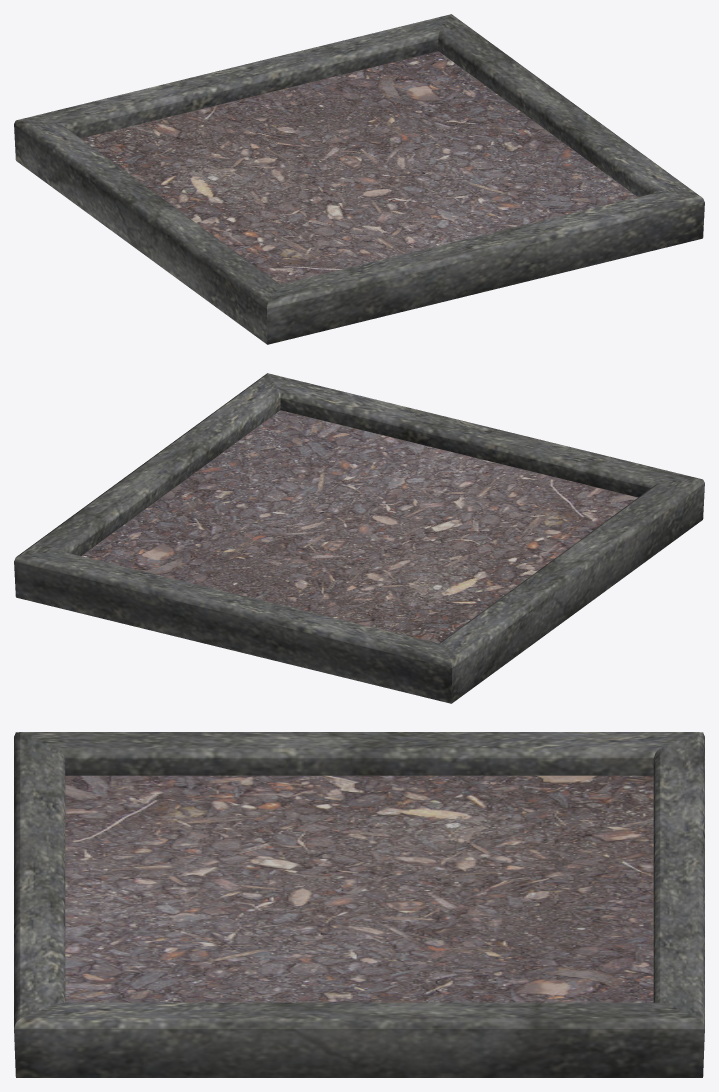
File: Treeground.fbx
The picture shows the model from 3 angles, top to bottom: view 1: azimuth 30°, elevation 25°; view 2: azimuth 150°, elevation 25°; view 3: azimuth 270°, elevation 25°; orthographic projection. The views are drawn at different scales.
Parts seen in each view (by area): view 1: polymsh_detached1; view 2: polymsh_detached1; view 3: polymsh_detached1.
Part boxes in pixels (x1,y1,x2,y2): polymsh_detached1: (14,14,704,344); polymsh_detached1: (14,373,704,703); polymsh_detached1: (14,732,704,1077).
Bounding box in the file's own units: 1.26 × 0.1156 × 1.26.
